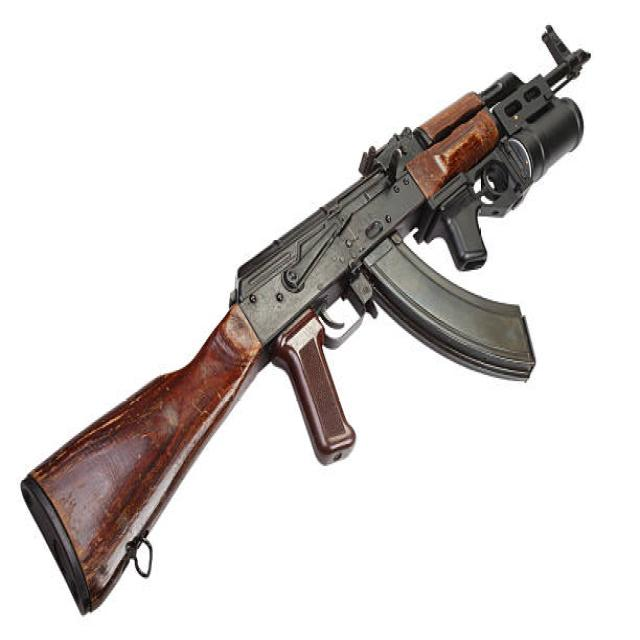rifle: (14, 9, 598, 626)
